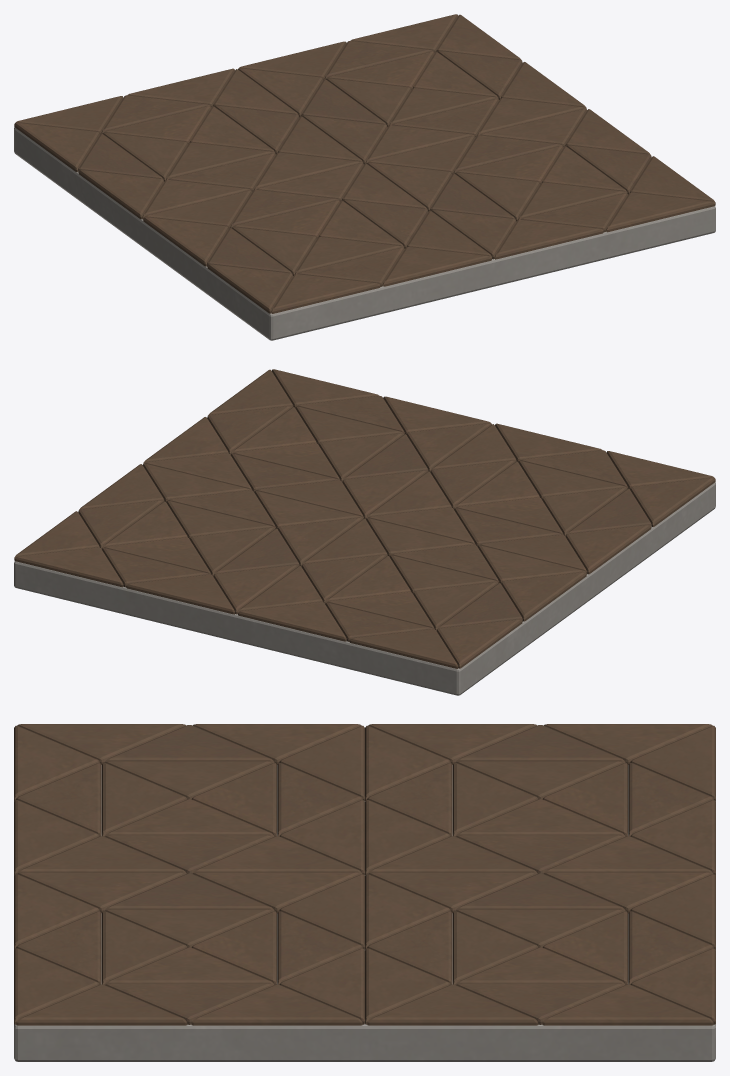
Rendered from SK3 CEILING SMALL.fbx.
3 renders of one model, top to bottom at view 1: azimuth 30°, elevation 25°; view 2: azimuth 150°, elevation 25°; view 3: azimuth 270°, elevation 25°, orthographic. The views are drawn at different scales.
Parts seen in each view (by area): view 1: SK3 CEILING SMALL; view 2: SK3 CEILING SMALL; view 3: SK3 CEILING SMALL.
Part boxes in pixels (left/top/right/bottom): SK3 CEILING SMALL: left=14, top=14, right=715, bottom=340; SK3 CEILING SMALL: left=14, top=369, right=715, bottom=695; SK3 CEILING SMALL: left=14, top=724, right=715, bottom=1061.
Bounding box in the file's own units: 200 × 13.95 × 200.
